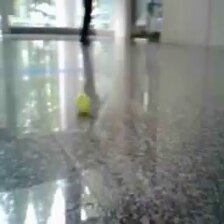tennis: (76, 94, 90, 112)
